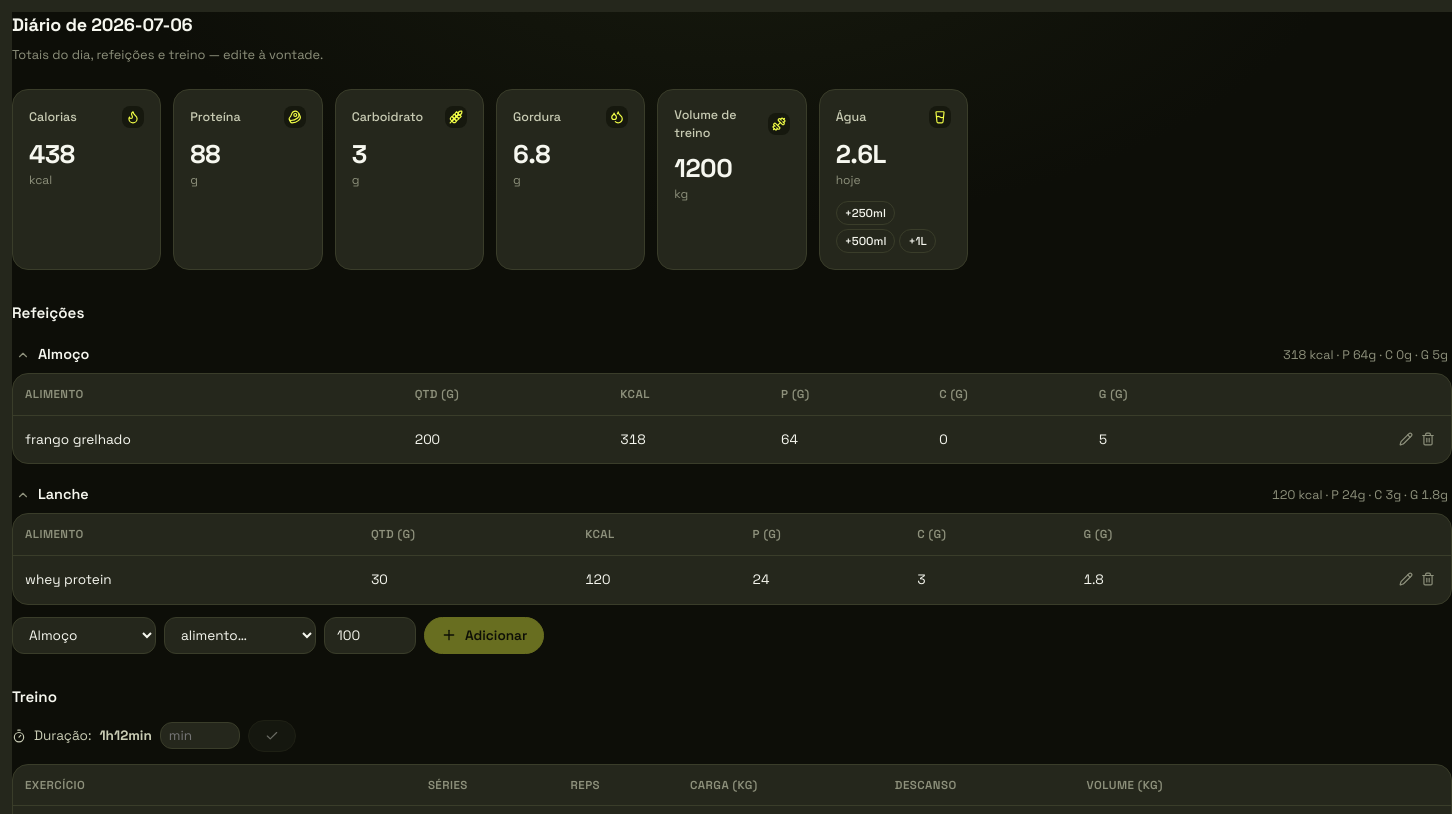
Test case: Diario › mostra erro quando uma remoção falha, sem perder o relatório
What coordinates should you click on to do the following:
click the button named "remover frango grelhado"
I would click on:
 (1428, 439)
Its box is x1=1417 y1=428 x2=1439 y2=450.
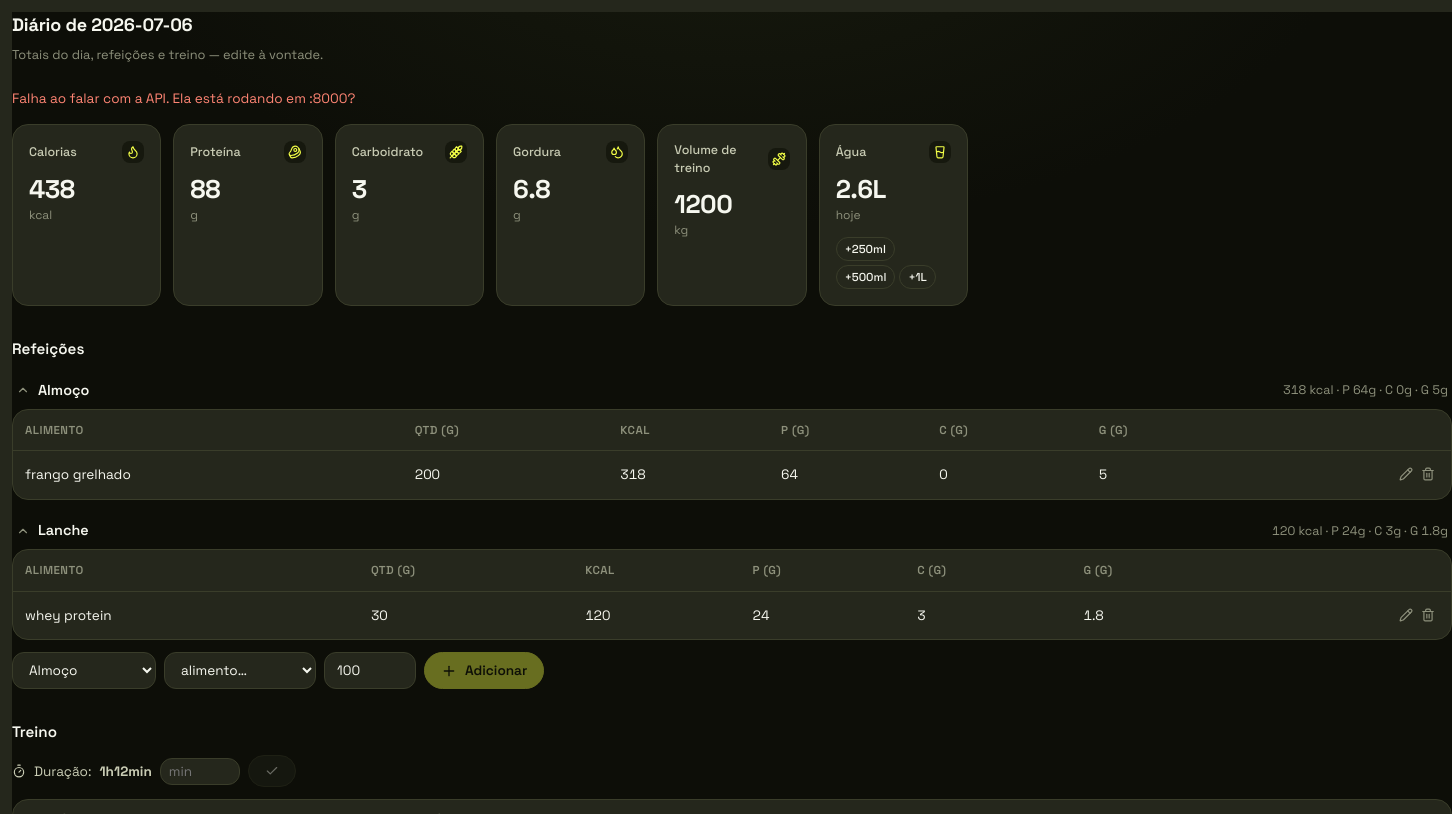
Check: the text "Falha ao falar com a API. Ela está rodando em :8000?" is shown, box x1=12 y1=90 x2=355 y2=107
